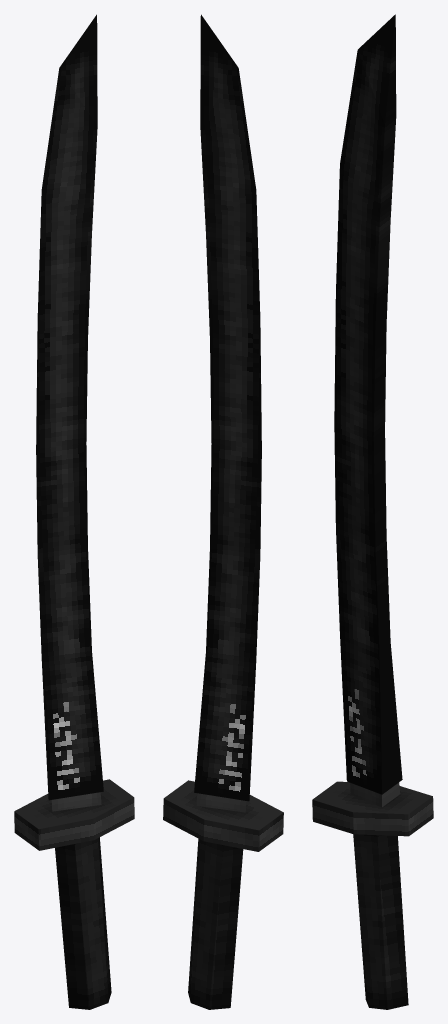
File: sword.glb
3 views of the same model, side by side, from view 1: azimuth 30°, elevation 25°; view 2: azimuth 150°, elevation 25°; view 3: azimuth 330°, elevation 25° (orthographic).
Visible parts, largest first — view 1: Handle; view 2: Handle; view 3: Handle.
Boxes of the visible parts, x1,y1,x2,y2 form: Handle: [14, 14, 134, 1009]; Handle: [163, 14, 283, 1009]; Handle: [312, 14, 433, 1009].
Size of the model in its own units: 0.9485 by 9.3 by 0.666.
Materials: 1 (1 with a texture image).
